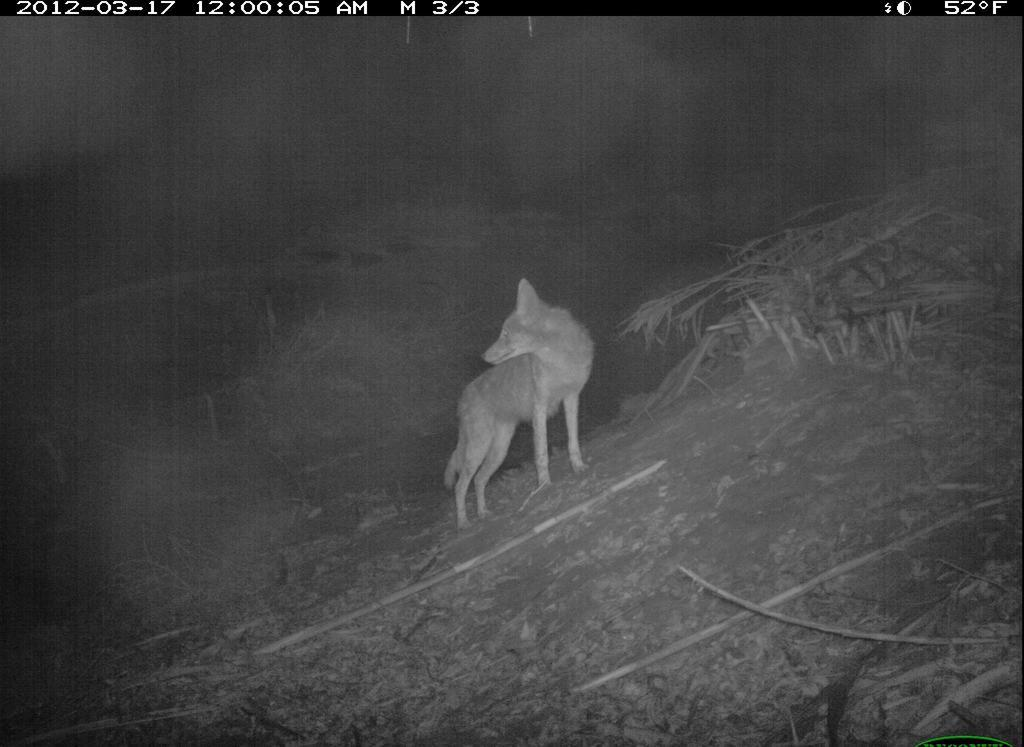coyote: (437, 271, 602, 534)
